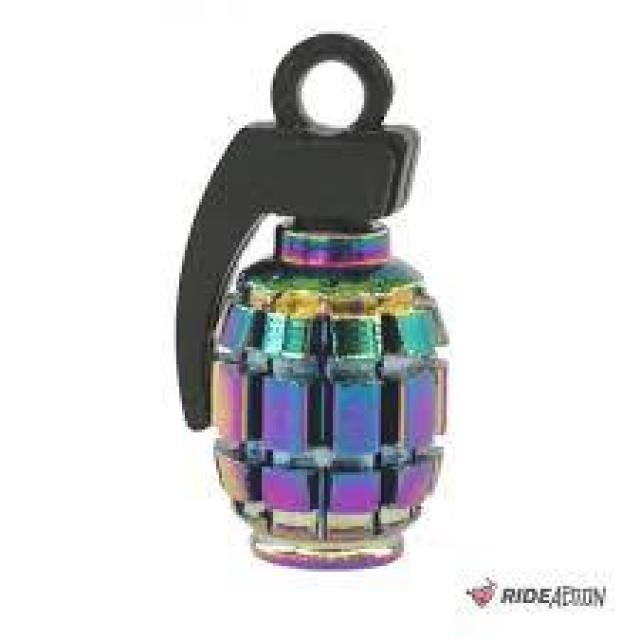grenade: (172, 31, 453, 572)
